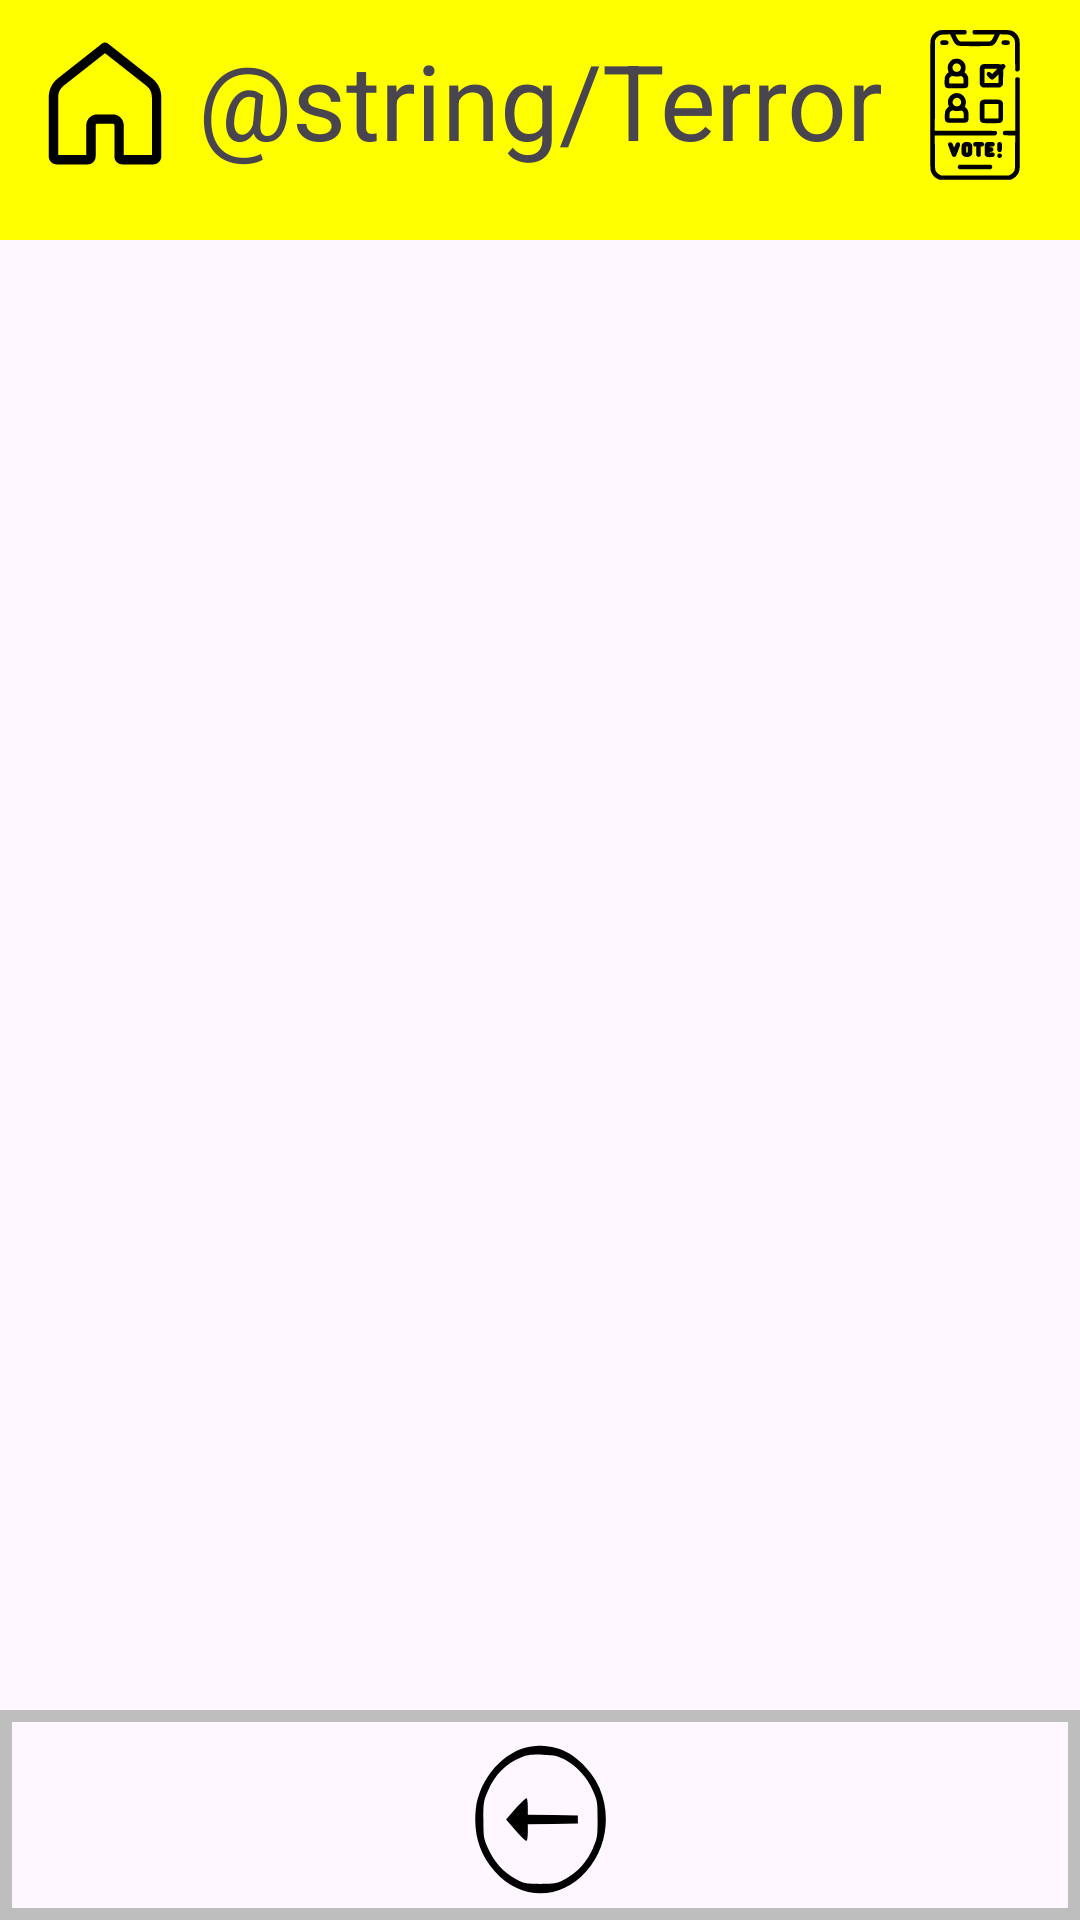

Icon bounding boxes for this 1080 x 1920 phone screenshot, format (x1, y1, x2, y2):
pantalla principal: (48, 42, 162, 165)
